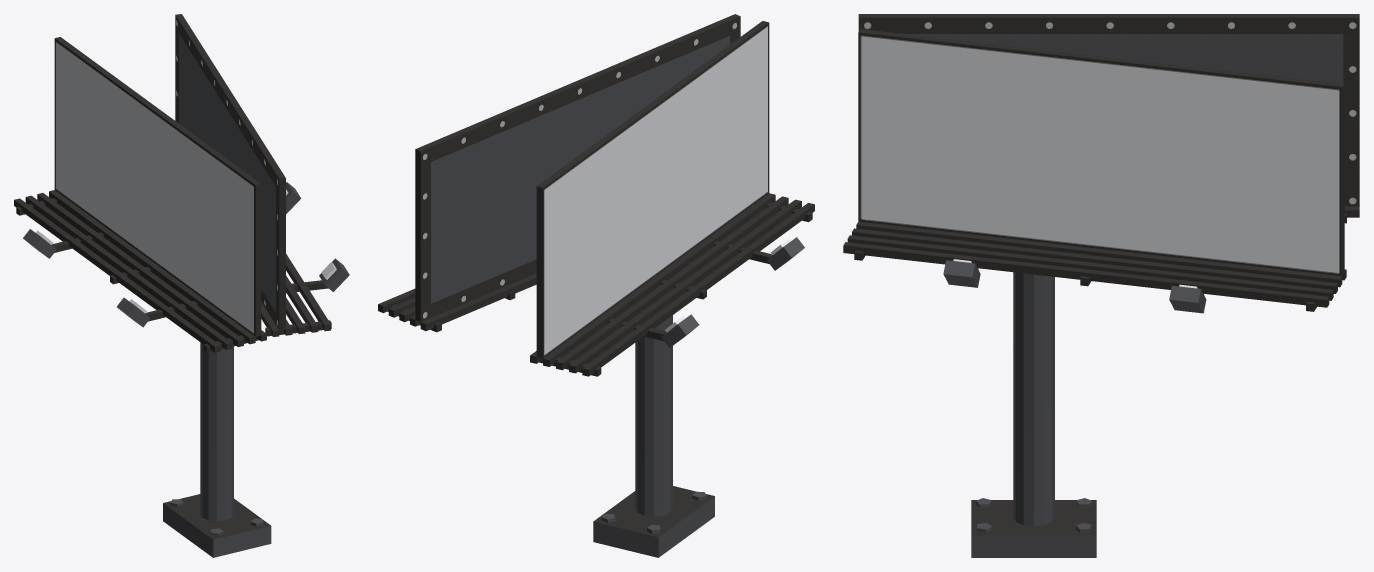
The model's file is e5jmUgocmaT.glb.
3 views of the same model, side by side, from view 1: azimuth 30°, elevation 25°; view 2: azimuth 150°, elevation 25°; view 3: azimuth 270°, elevation 25° (orthographic). The views are drawn at different scales.
Parts seen in each view (by area): view 1: b, a, c; view 2: b, a, c; view 3: a, b, c.
Boxes of the visible parts, x1=… form: b: x1=14, y1=37, x2=266, y2=352; a: x1=175, y1=14, x2=349, y2=336; c: x1=163, y1=342, x2=271, y2=557; b: x1=530, y1=21, x2=814, y2=376; a: x1=378, y1=14, x2=740, y2=332; c: x1=593, y1=315, x2=714, y2=557; a: x1=843, y1=29, x2=1346, y2=313; b: x1=858, y1=14, x2=1359, y2=223; c: x1=971, y1=272, x2=1096, y2=557.
Bounding box in the file's own units: 440 × 670 × 618.
1 material, 1 textured.
